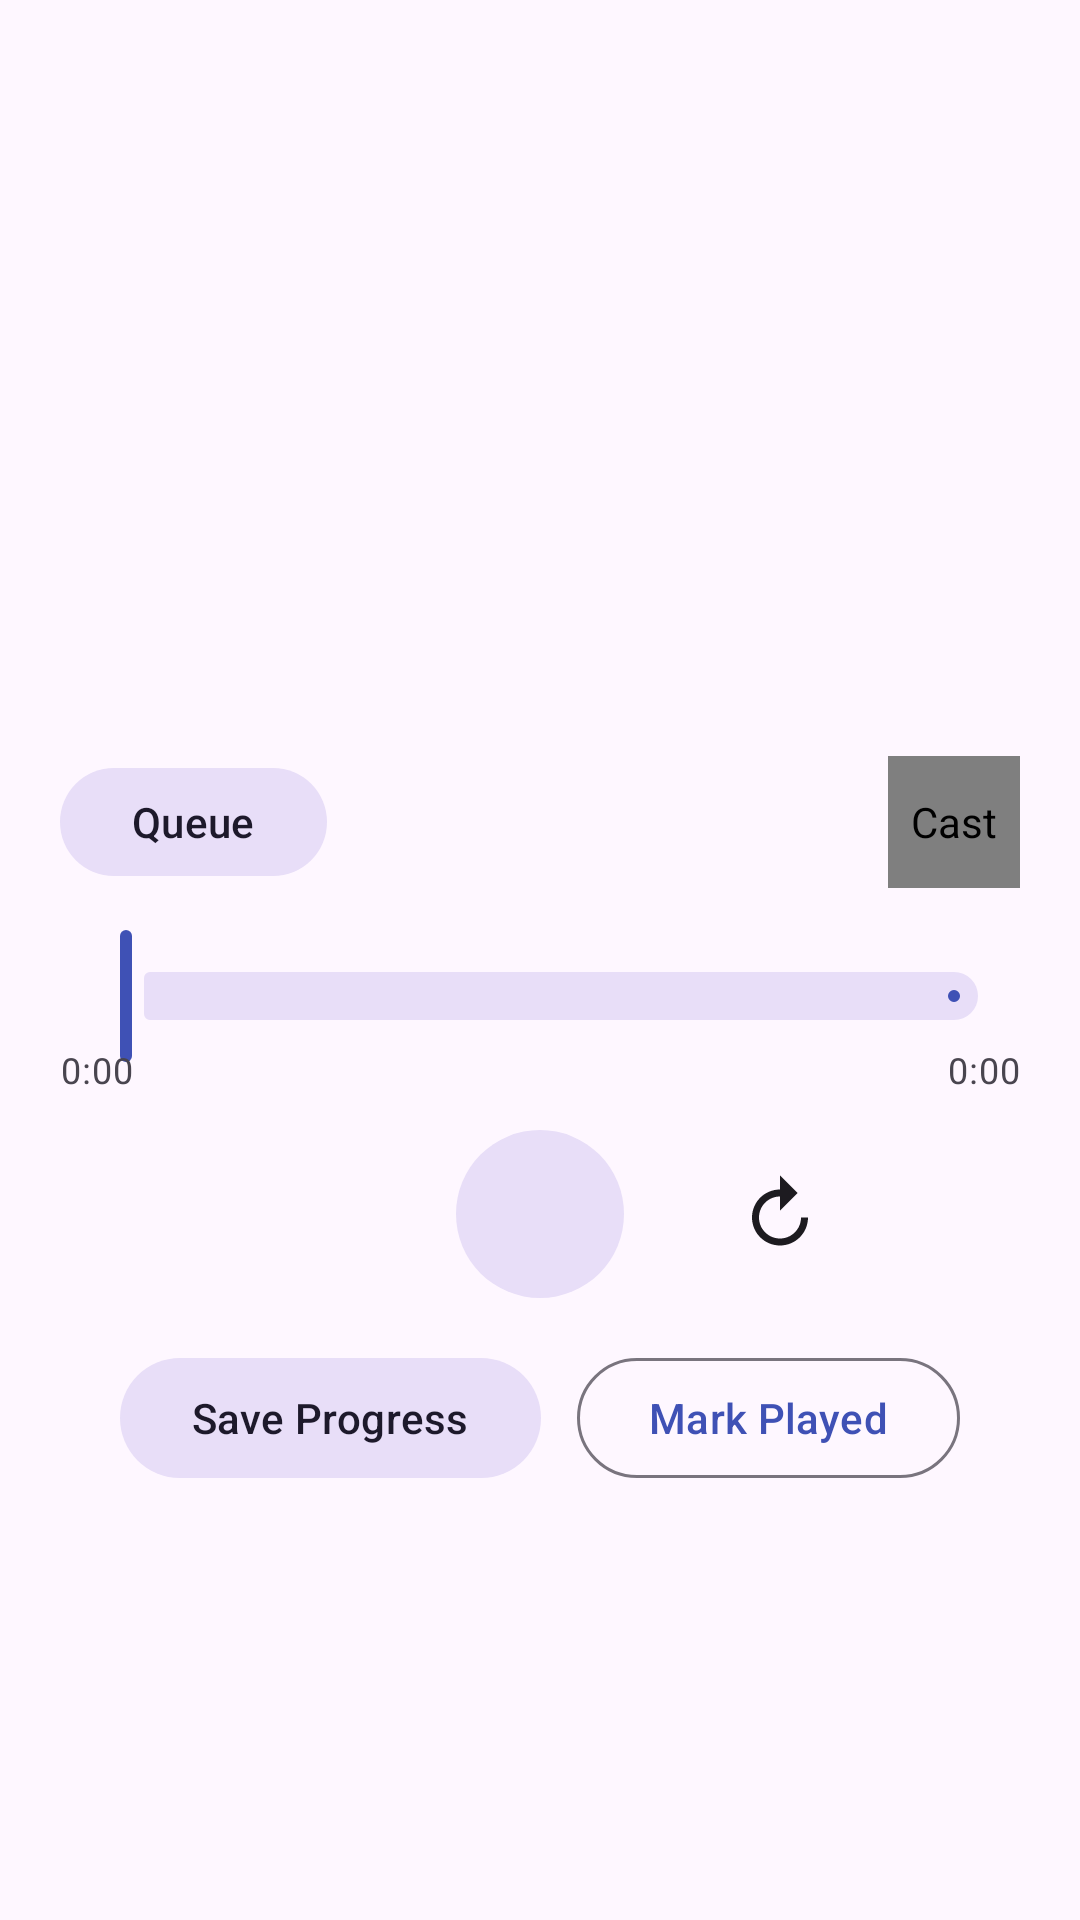

Icons on this 1080*1920 Android screen, each with the point to tap as (x=x, y=y):
Skip forward 30s: (x=780, y=1210)
